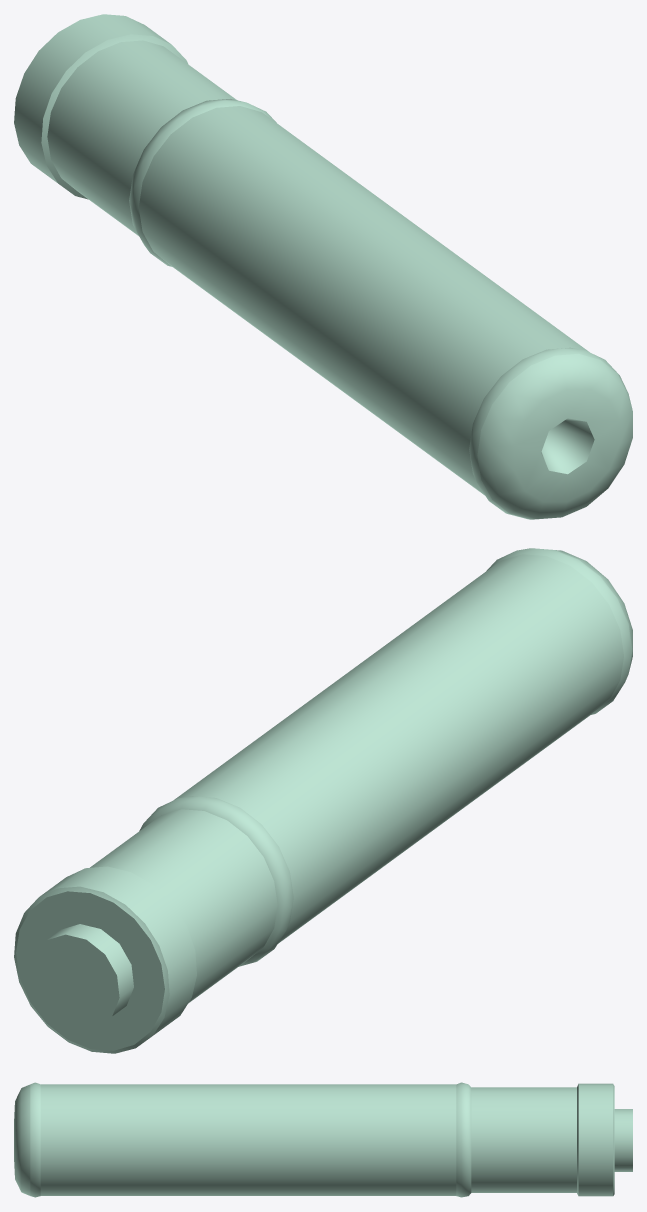
Rendered from pistol_supressor.fbx.
3 views of the same model, one above another, from view 1: azimuth 30°, elevation 25°; view 2: azimuth 150°, elevation 25°; view 3: azimuth 270°, elevation 25° (orthographic). The views are drawn at different scales.
Visible parts, largest first — view 1: pistol_suppressor; view 2: pistol_suppressor; view 3: pistol_suppressor.
Boxes of the visible parts, <box> form: pistol_suppressor: <box>14,14,632,519</box>; pistol_suppressor: <box>14,548,632,1053</box>; pistol_suppressor: <box>14,1082,632,1197</box>.
Size of the model in its own units: 1.39 by 1.39 by 7.47.
